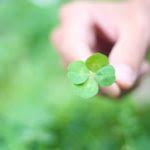4-clover: (68, 53, 114, 97)
